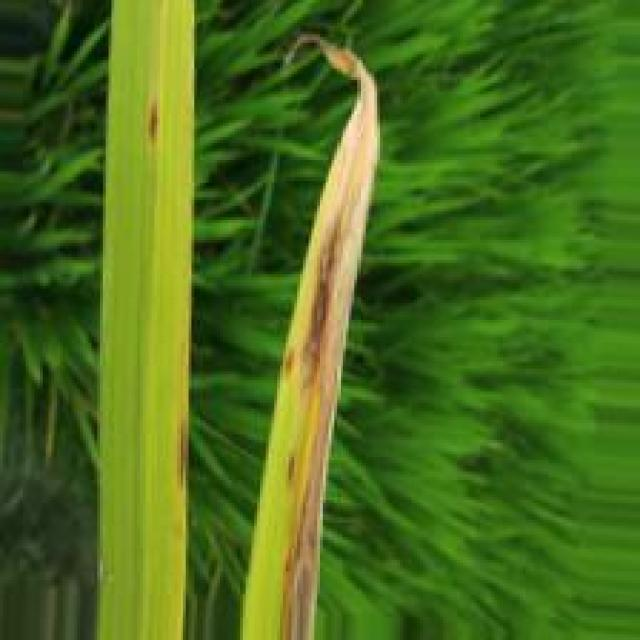Leaf_Scald: (279, 110, 381, 639), (175, 414, 188, 485), (146, 91, 163, 144)
